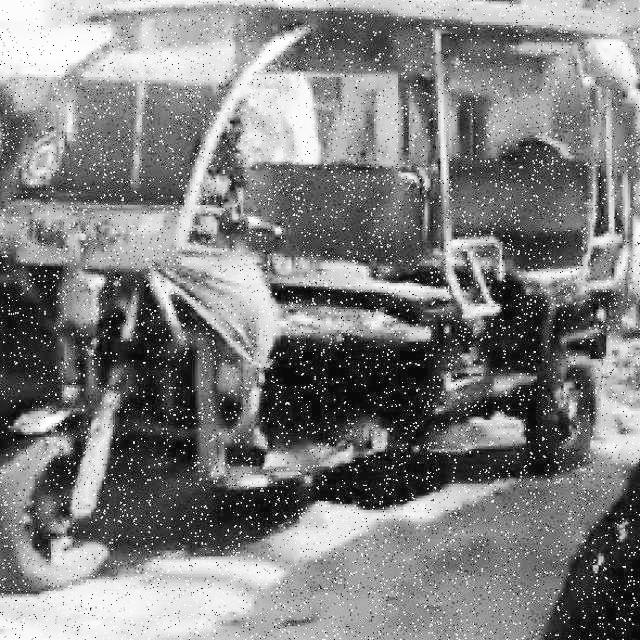Toto: (0, 0, 636, 592)
